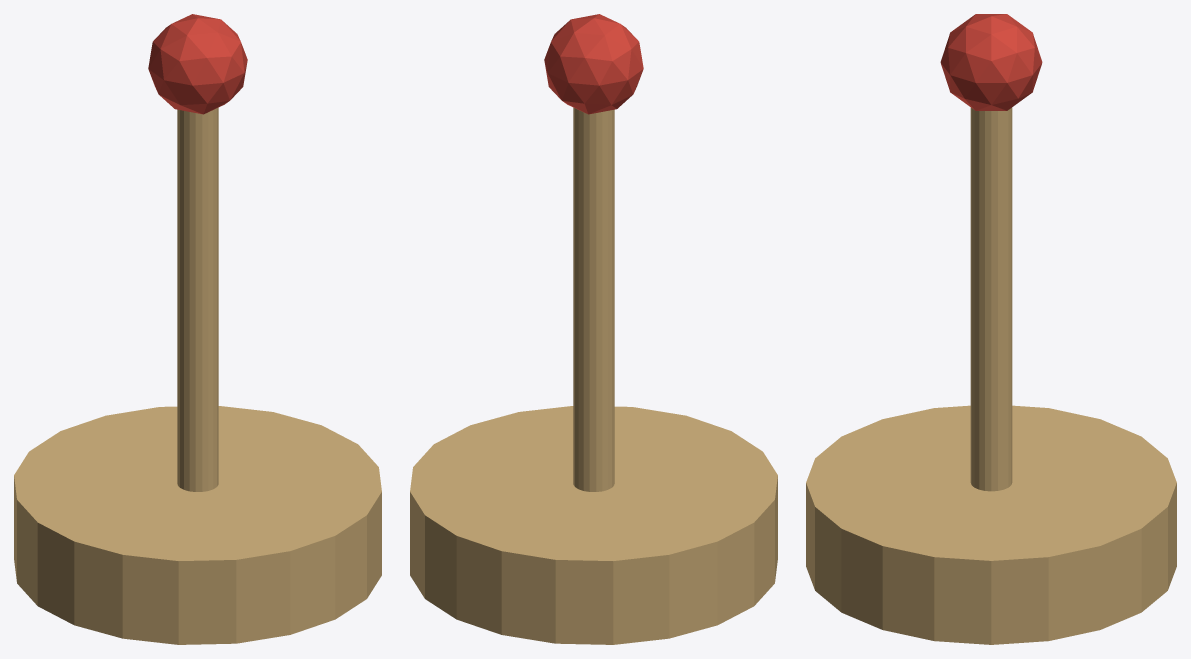
The picture shows the model from 3 angles, left to right: view 1: azimuth 30°, elevation 25°; view 2: azimuth 150°, elevation 25°; view 3: azimuth 270°, elevation 25°; orthographic projection.
Visible parts, largest first — view 1: RC-017 Beacon aerial batched; view 2: RC-017 Beacon aerial batched; view 3: RC-017 Beacon aerial batched.
Boxes of the visible parts, left/top/right/bottom form: RC-017 Beacon aerial batched: left=14, top=14, right=381, bottom=644; RC-017 Beacon aerial batched: left=410, top=14, right=777, bottom=644; RC-017 Beacon aerial batched: left=806, top=14, right=1176, bottom=644.
Size of the model in its own units: 1.6 by 2.62 by 1.6.
